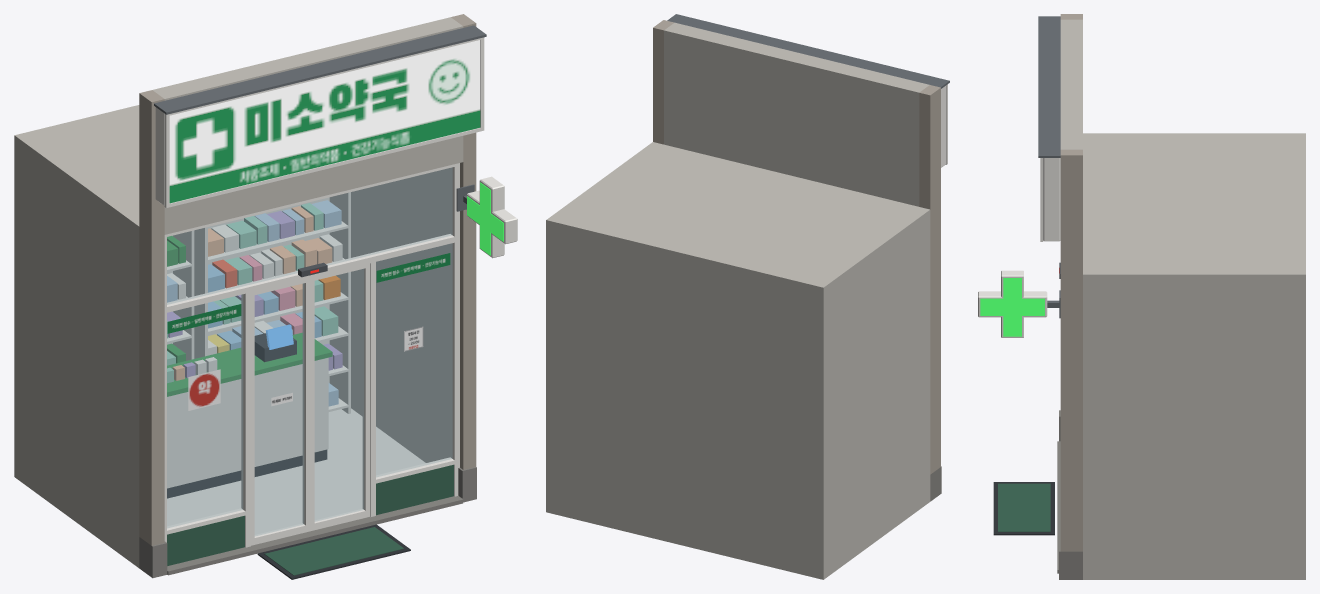
Rendered from SC_Shop_Pharmacy.gltf.
3 renders of one model, left to right at view 1: azimuth 30°, elevation 25°; view 2: azimuth 150°, elevation 25°; view 3: azimuth 270°, elevation 25°, orthographic. The views are drawn at different scales.
Parts seen in each view (by area): view 1: SC_Shop_Pharmacy; view 2: SC_Shop_Pharmacy; view 3: SC_Shop_Pharmacy.
Boxes of the visible parts, x1,y1,x2,y2 form: SC_Shop_Pharmacy: [14, 14, 517, 579]; SC_Shop_Pharmacy: [546, 14, 949, 579]; SC_Shop_Pharmacy: [978, 14, 1305, 579].
Bounding box in the file's own units: 3 × 4.2 × 2.94.
5 materials, 5 textured.
